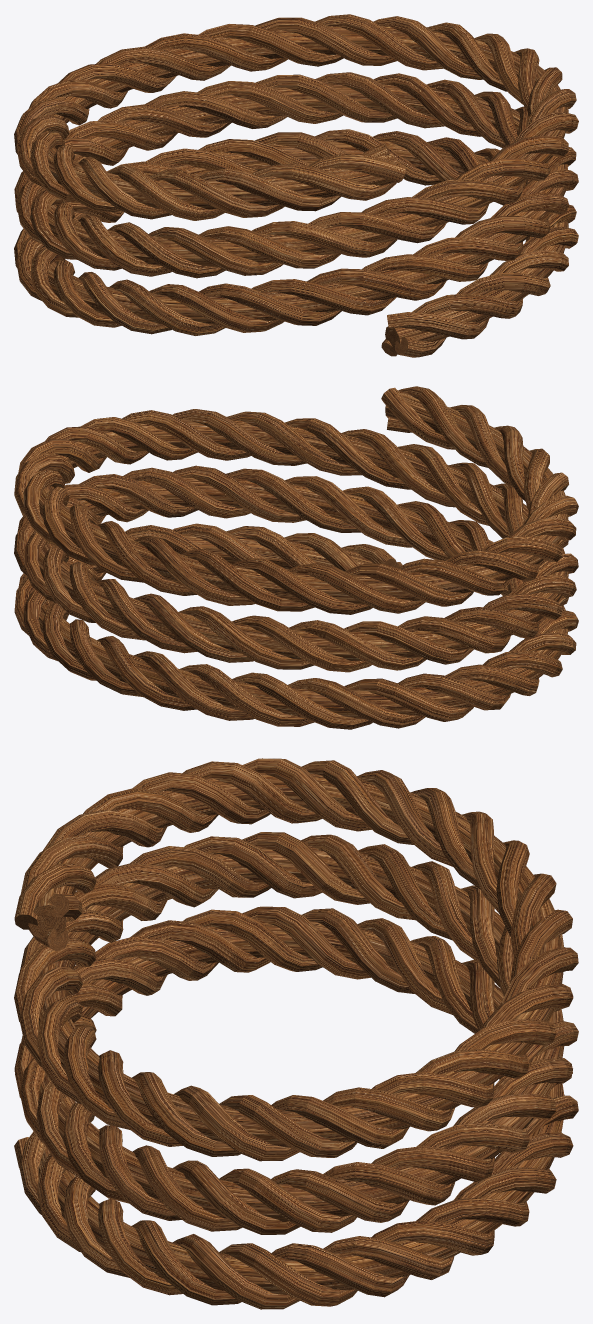
The model's file is bowstring.obj.
The picture shows the model from 3 angles, top to bottom: view 1: azimuth 30°, elevation 25°; view 2: azimuth 150°, elevation 25°; view 3: azimuth 270°, elevation 25°; orthographic projection. The views are drawn at different scales.
Visible parts, largest first — view 1: strand_0, strand_1, strand_2, cord; view 2: strand_2, strand_1, strand_0, cord; view 3: strand_0, strand_2, strand_1, cord.
Boxes of the visible parts, left/top/right/bottom form: strand_0: left=14, top=17, right=578, bottom=357; strand_1: left=14, top=14, right=578, bottom=356; strand_2: left=14, top=16, right=578, bottom=339; cord: left=30, top=26, right=568, bottom=354; strand_2: left=14, top=387, right=578, bottom=729; strand_1: left=14, top=405, right=578, bottom=728; strand_0: left=14, top=386, right=578, bottom=726; cord: left=32, top=390, right=568, bottom=719; strand_0: left=14, top=758, right=578, bottom=1309; strand_2: left=14, top=761, right=578, bottom=1306; strand_1: left=14, top=760, right=578, bottom=1305; cord: left=28, top=772, right=564, bottom=1295.
Size of the model in its own units: 112 by 44.03 by 81.3.
Materials: 1 (1 with a texture image).
